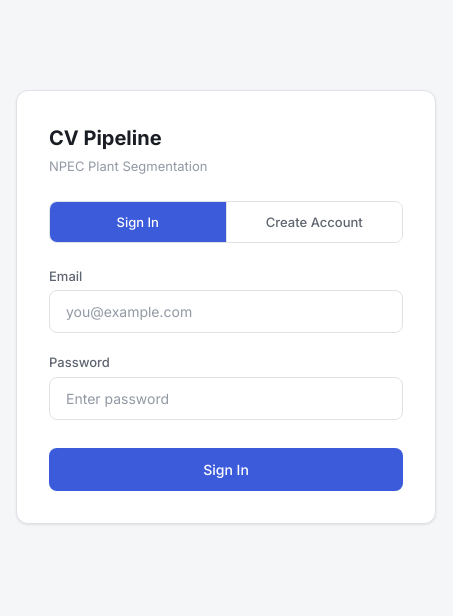
Test case: LoginPage › validates password length on registration
Step 1. Click the button "Create Account" → x=314, y=222, box [226, 202, 402, 242]
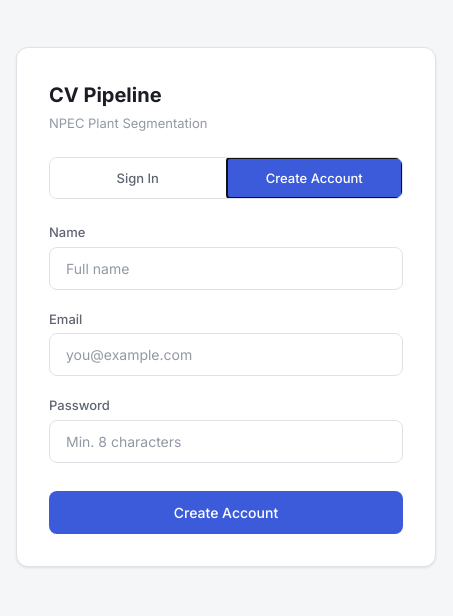
Step 2. Type "Test User" into the field labelled "Name" → x=226, y=268, box [49, 247, 403, 290]
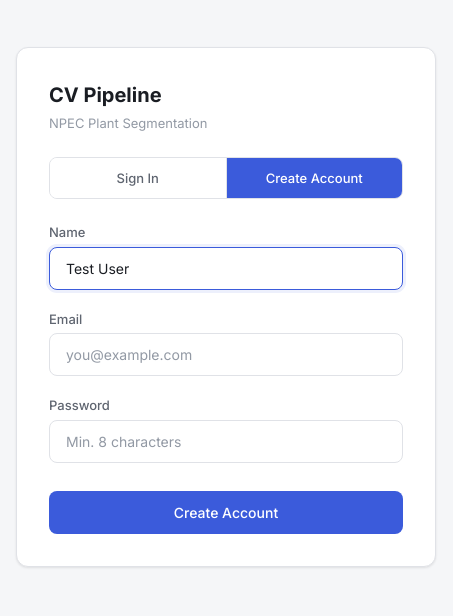
Step 3. Type "test@example.com" into the field labelled "Email" → x=226, y=355, box [49, 333, 403, 376]
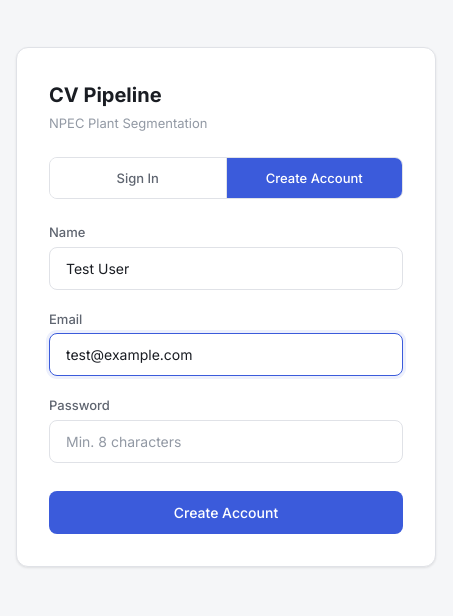
Step 4. Type "short" into the password field labelled "Password" → x=226, y=441, box [49, 420, 403, 463]
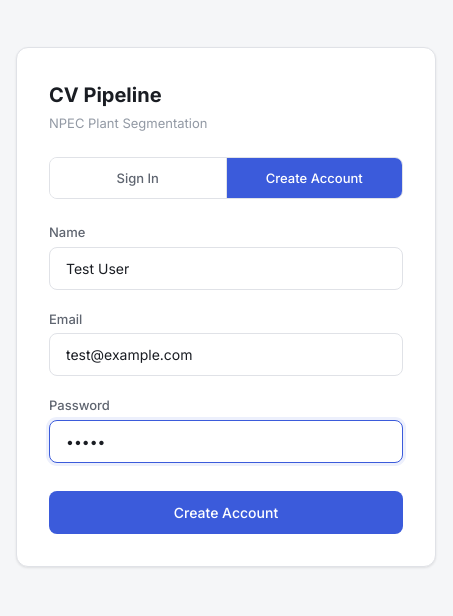
Step 5. Click the button with id "btn-submit" → x=226, y=513, box [49, 491, 403, 534]
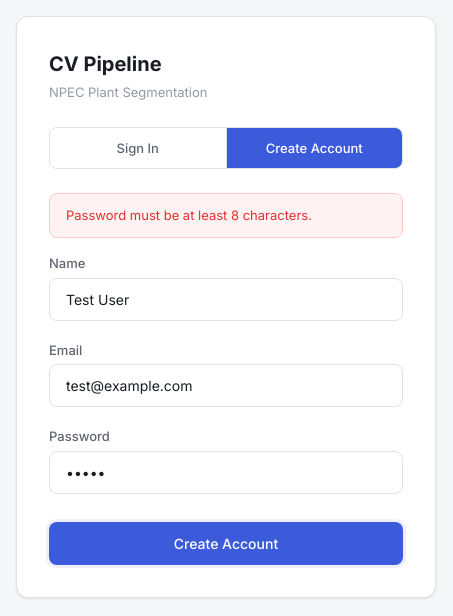
Expected: the text "Password must be at least 8 characters." is shown, [49, 192, 403, 238]
